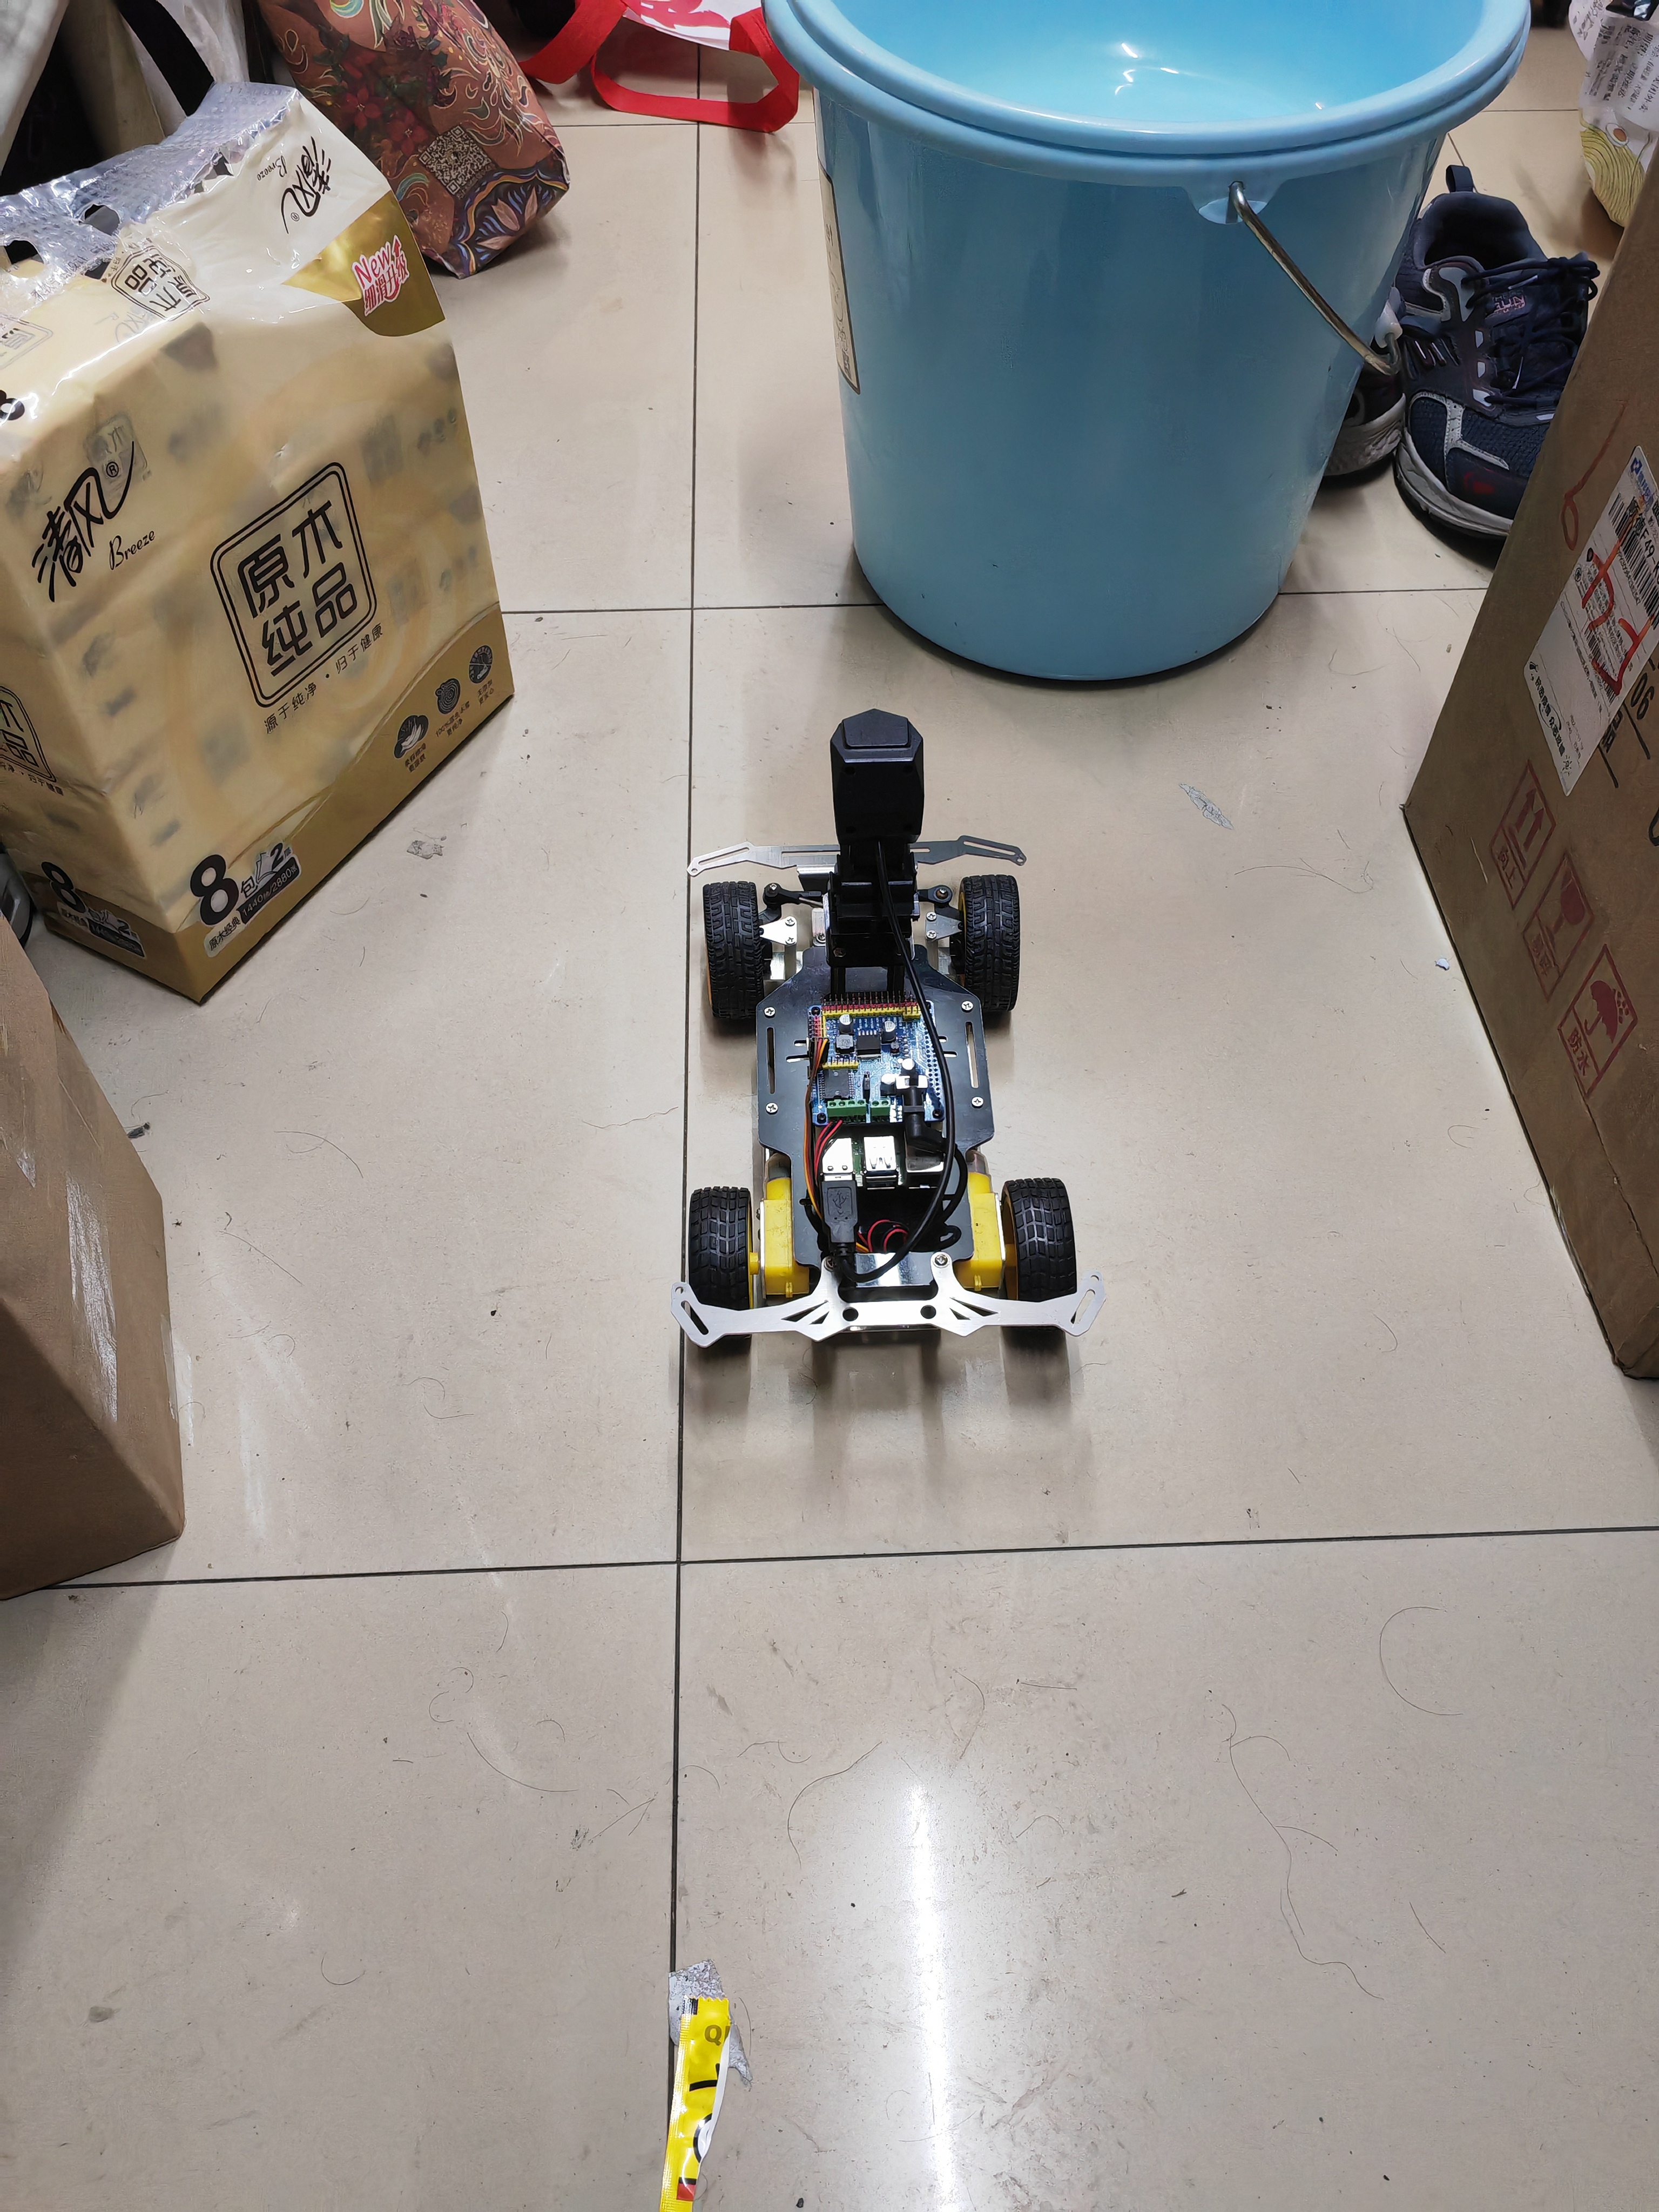car: (643, 707, 1105, 1399)
